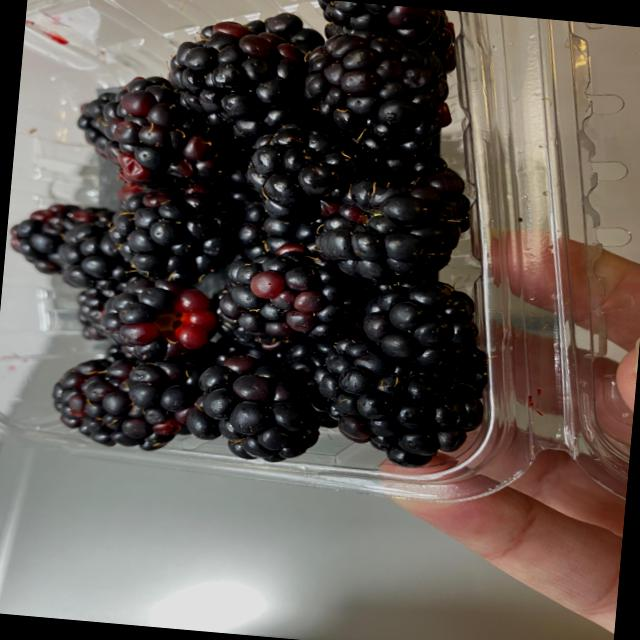blackberries: (8, 0, 521, 466)
